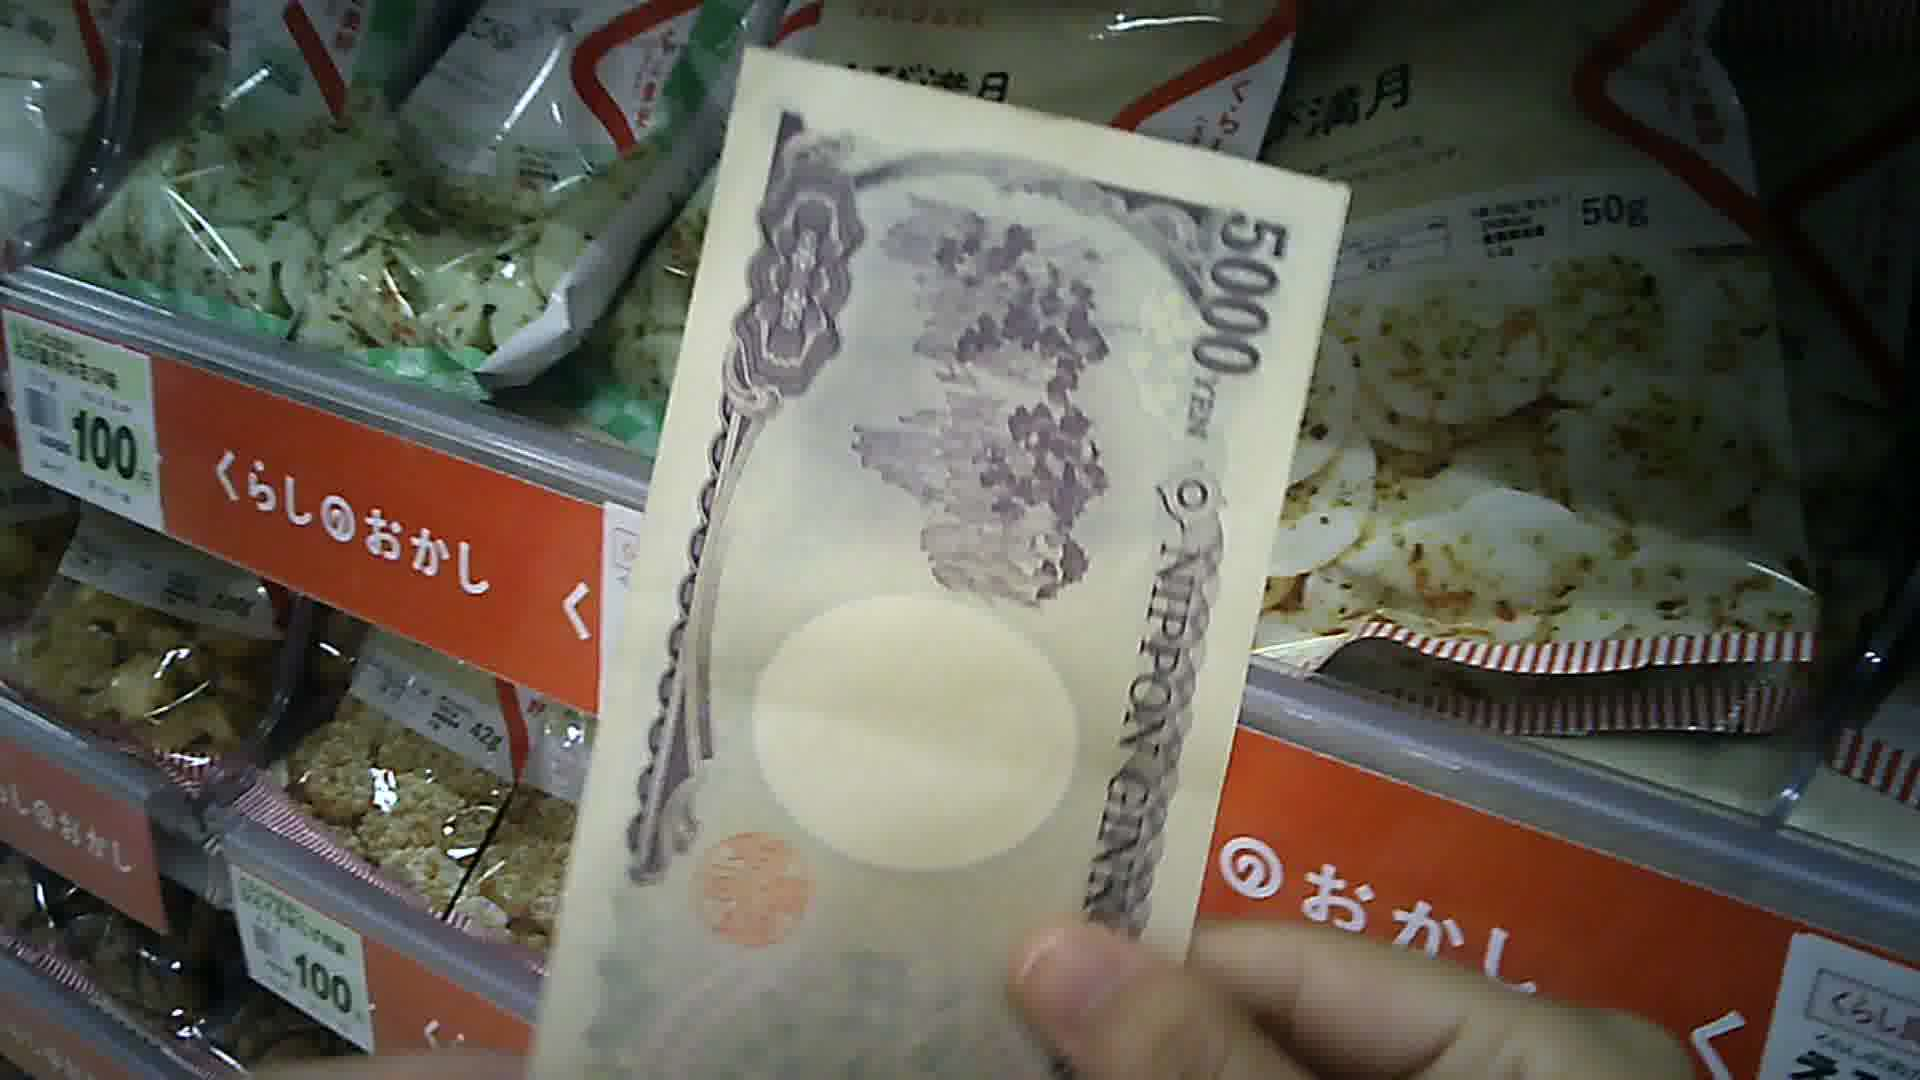5,000 Yen: (487, 28, 1294, 1079)
